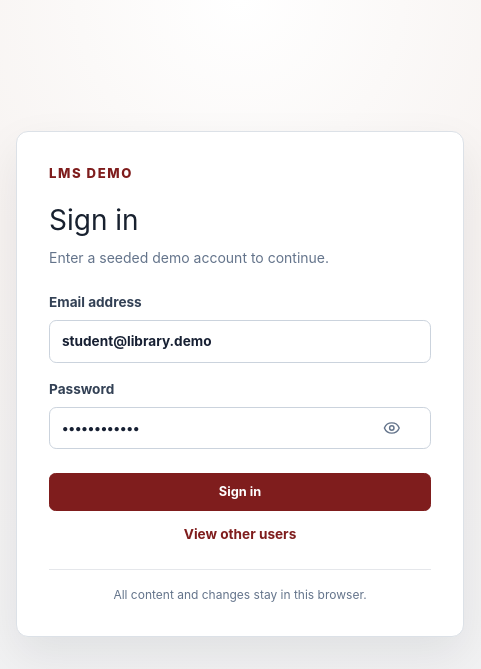
Test: shows and hides the password
Click the button named "Show password": (407, 428) [383, 407, 431, 449]
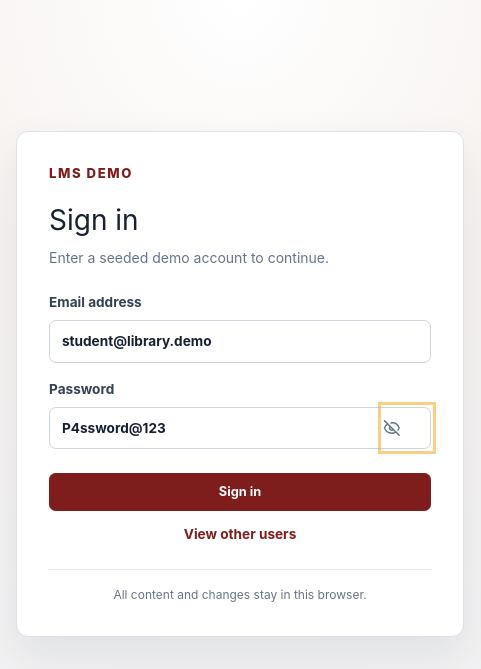
Expected: the field labelled "Password" shows its text, [49, 407, 431, 449]
Click the button named "Hide password": (407, 428) [383, 407, 431, 449]
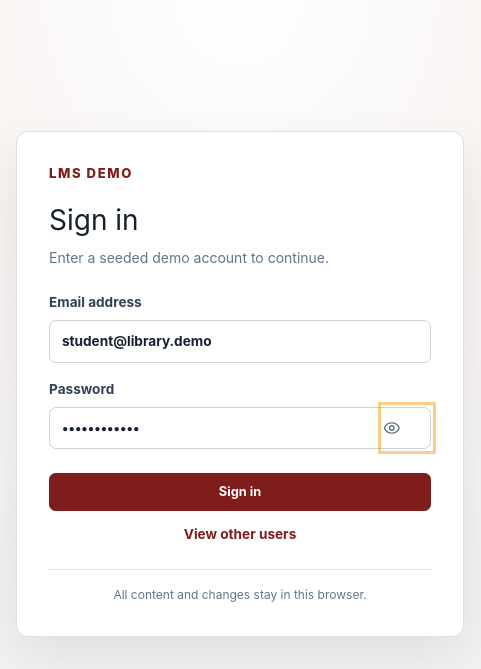
Expected: the password field labelled "Password" hides its text, [49, 407, 431, 449]
